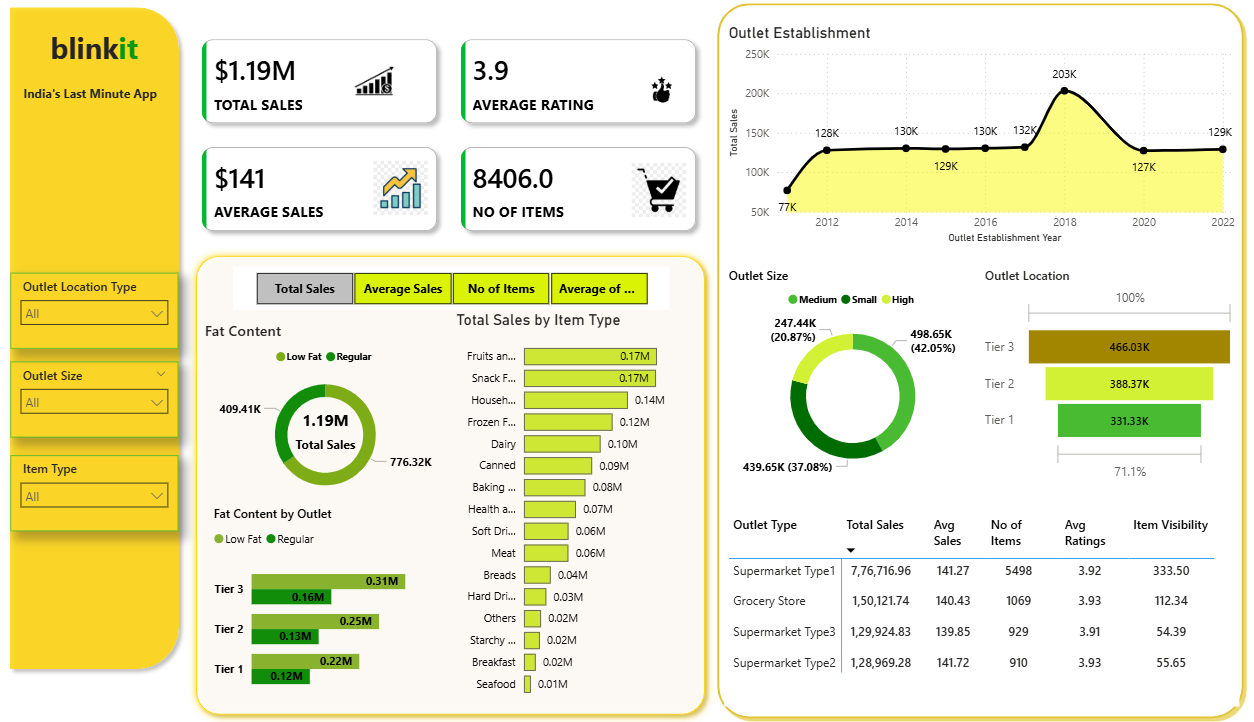

This screenshot's page, from the dashboard's own definition file:
{"tool":"powerbi","page":{"name":"Page 1","canvas":[1400,800],"ordinal":0},"visuals":[{"type":"shape","box":[10,0,205,750],"z":0},{"type":"textbox","box":[19.4,27.6,185.2,100.9],"z":1000},{"type":"cardVisual","fields":{"Data":["BlinkIT Grocery Data.Total Sales","BlinkIT Grocery Data.Average of Ratings","BlinkIT Grocery Data.Average Sales","BlinkIT Grocery Data.No of Items"]},"box":[214.2,27.6,581.9,247.4],"z":2000},{"type":"shape","box":[215.6,275.1,580.5,525.2],"z":3000},{"type":"donutChart","title":"Fat Content","fields":{"Y":["BlinkIT Grocery Data.Total Sales"],"Category":["BlinkIT Grocery Data.Item Fat Content"]},"box":[229.4,355.2,276.4,204.6],"z":4000},{"type":"slicer","fields":{"Values":["Metrics.Metrics"]},"box":[265.4,295.8,482.4,48.4],"z":5000},{"type":"card","fields":{"Values":["BlinkIT Grocery Data.Total Sales"]},"box":[324.8,447.8,85.7,56.7],"z":6000},{"type":"clusteredBarChart","title":"Fat Content by Outlet","fields":{"Y":["BlinkIT Grocery Data.Total Sales"],"Category":["BlinkIT Grocery Data.Outlet Location Type"],"Series":["BlinkIT Grocery Data.Item Fat Content"]},"box":[239.1,559.8,266.8,222.5],"z":7000},{"type":"barChart","fields":{"Y":["BlinkIT Grocery Data.Total Sales"],"Category":["BlinkIT Grocery Data.Item Type"]},"box":[507.3,344.2,269.5,438.2],"z":8000},{"type":"shape","box":[796.1,0,591.6,800.3],"z":9000},{"type":"lineChart","title":"Outlet Establishment","fields":{"Category":["BlinkIT Grocery Data.Outlet Establishment Year"],"Y":["BlinkIT Grocery Data.Total Sales"]},"box":[808.6,27.6,569.5,247.4],"z":10000},{"type":"donutChart","title":"Outlet Size","fields":{"Y":["BlinkIT Grocery Data.Total Sales"],"Category":["BlinkIT Grocery Data.Outlet Size"]},"box":[808.6,295.8,284.7,241.9],"z":10001},{"type":"funnel","title":"Outlet Location","fields":{"Y":["BlinkIT Grocery Data.Total Sales"],"Category":["BlinkIT Grocery Data.Outlet Location Type"]},"box":[1091.9,295.8,286.1,241.9],"z":10002},{"type":"pivotTable","fields":{"Values":["BlinkIT Grocery Data.Total Sales","BlinkIT Grocery Data.Average Sales","BlinkIT Grocery Data.No of Items","BlinkIT Grocery Data.Average of Ratings","Sum(BlinkIT Grocery Data.Item Visibility)"],"Rows":["BlinkIT Grocery Data.Outlet Type"]},"box":[808.6,563.9,569.5,218.4],"z":10003},{"type":"slicer","fields":{"Values":["BlinkIT Grocery Data.Outlet Location Type"]},"box":[19.4,302.7,185.2,84.3],"z":10004},{"type":"slicer","fields":{"Values":["BlinkIT Grocery Data.Outlet Size"]},"box":[19.4,400.8,185.2,84.3],"z":10005},{"type":"slicer","fields":{"Values":["BlinkIT Grocery Data.Item Type"]},"box":[19.4,504.5,185.2,84.3],"z":10006}]}

Visuals, with their boxes in screenshot pixels (x1, y1, x2, y2), scaled from the page's 1400x800 canvas onto the 1254x722 screenshot:
shape: Rect(9, 0, 193, 677)
textbox: Rect(17, 25, 183, 116)
cardVisual - BlinkIT Grocery Data.Total Sales x BlinkIT Grocery Data.Average of Ratings: Rect(192, 25, 713, 248)
shape: Rect(193, 248, 713, 721)
"Fat Content" donutChart: Rect(205, 321, 453, 505)
slicer - Metrics.Metrics: Rect(238, 267, 670, 311)
card - BlinkIT Grocery Data.Total Sales: Rect(291, 404, 368, 455)
"Fat Content by Outlet" clusteredBarChart: Rect(214, 505, 453, 706)
barChart - BlinkIT Grocery Data.Total Sales x BlinkIT Grocery Data.Item Type: Rect(454, 311, 696, 706)
shape: Rect(713, 0, 1243, 721)
"Outlet Establishment" lineChart: Rect(724, 25, 1234, 248)
"Outlet Size" donutChart: Rect(724, 267, 979, 485)
"Outlet Location" funnel: Rect(978, 267, 1234, 485)
pivotTable - BlinkIT Grocery Data.Total Sales x BlinkIT Grocery Data.Average Sales: Rect(724, 509, 1234, 706)
slicer - BlinkIT Grocery Data.Outlet Location Type: Rect(17, 273, 183, 349)
slicer - BlinkIT Grocery Data.Outlet Size: Rect(17, 362, 183, 438)
slicer - BlinkIT Grocery Data.Item Type: Rect(17, 455, 183, 531)
